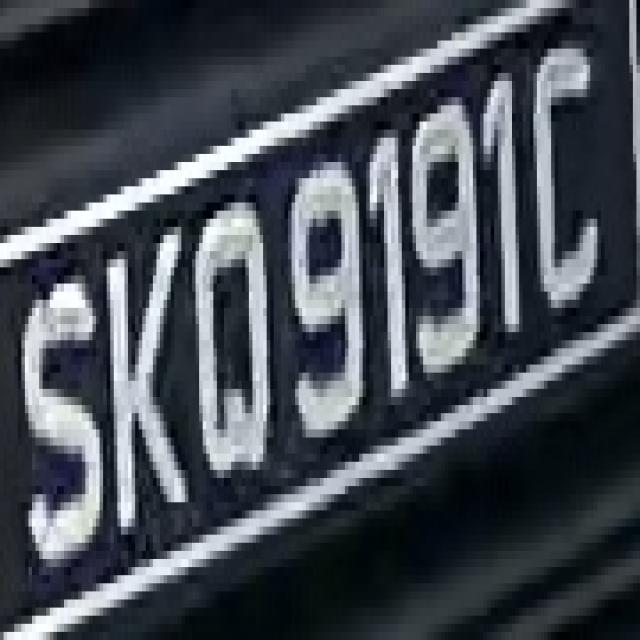1: (359, 98, 409, 430), (484, 40, 530, 397)
9: (278, 154, 367, 454), (409, 97, 483, 397)
C: (530, 24, 604, 332)
K: (92, 202, 185, 543)
Q: (178, 178, 274, 502)
S: (3, 243, 106, 600)
